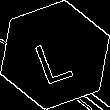L_N: (31, 26, 79, 84)
